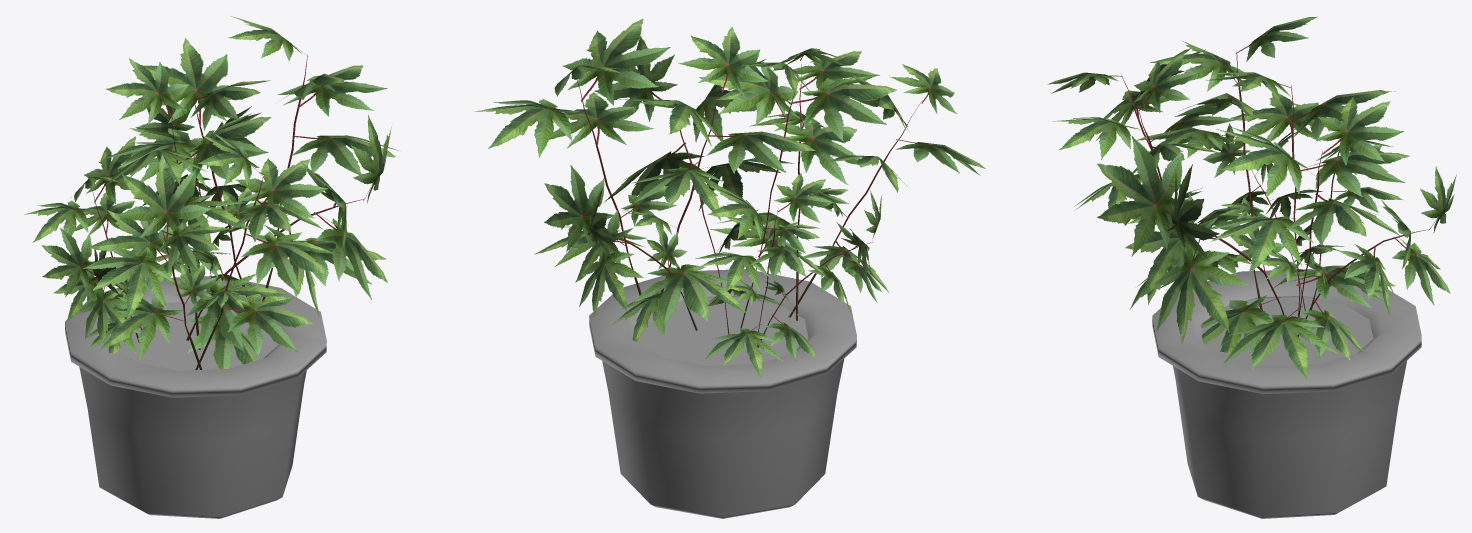
File: Fern_lod0.fbx
3 renders of one model, left to right at view 1: azimuth 30°, elevation 25°; view 2: azimuth 150°, elevation 25°; view 3: azimuth 270°, elevation 25°, orthographic. The views are drawn at different scales.
Visible parts, largest first — view 1: Fern_lod0; view 2: Fern_lod0; view 3: Fern_lod0.
Part boxes in pixels (bbox=[...]): Fern_lod0: bbox=[24, 16, 398, 518]; Fern_lod0: bbox=[473, 18, 985, 518]; Fern_lod0: bbox=[1047, 16, 1456, 518].
Bounding box in the file's own units: 61.5 × 59.21 × 51.58.
2 materials, 1 textured.
